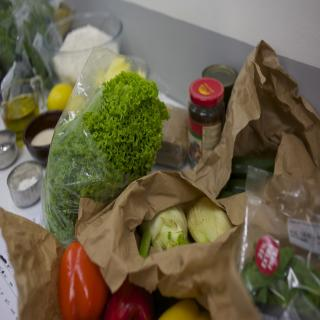tomato: (59, 241, 109, 320)
